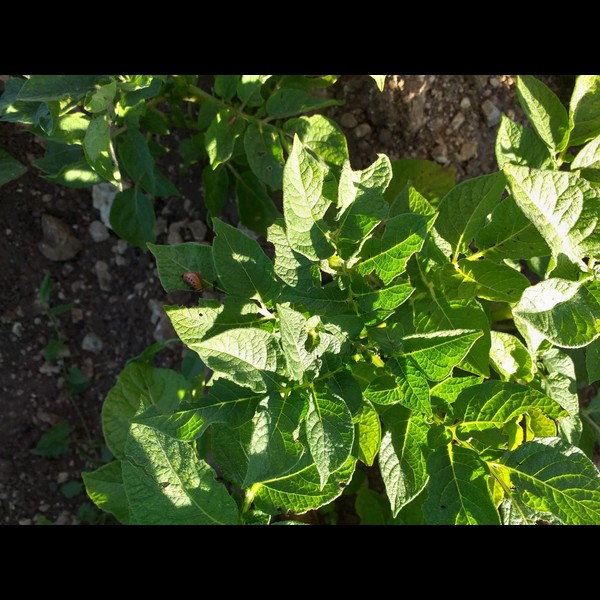hrosc: (181, 269, 207, 296)
